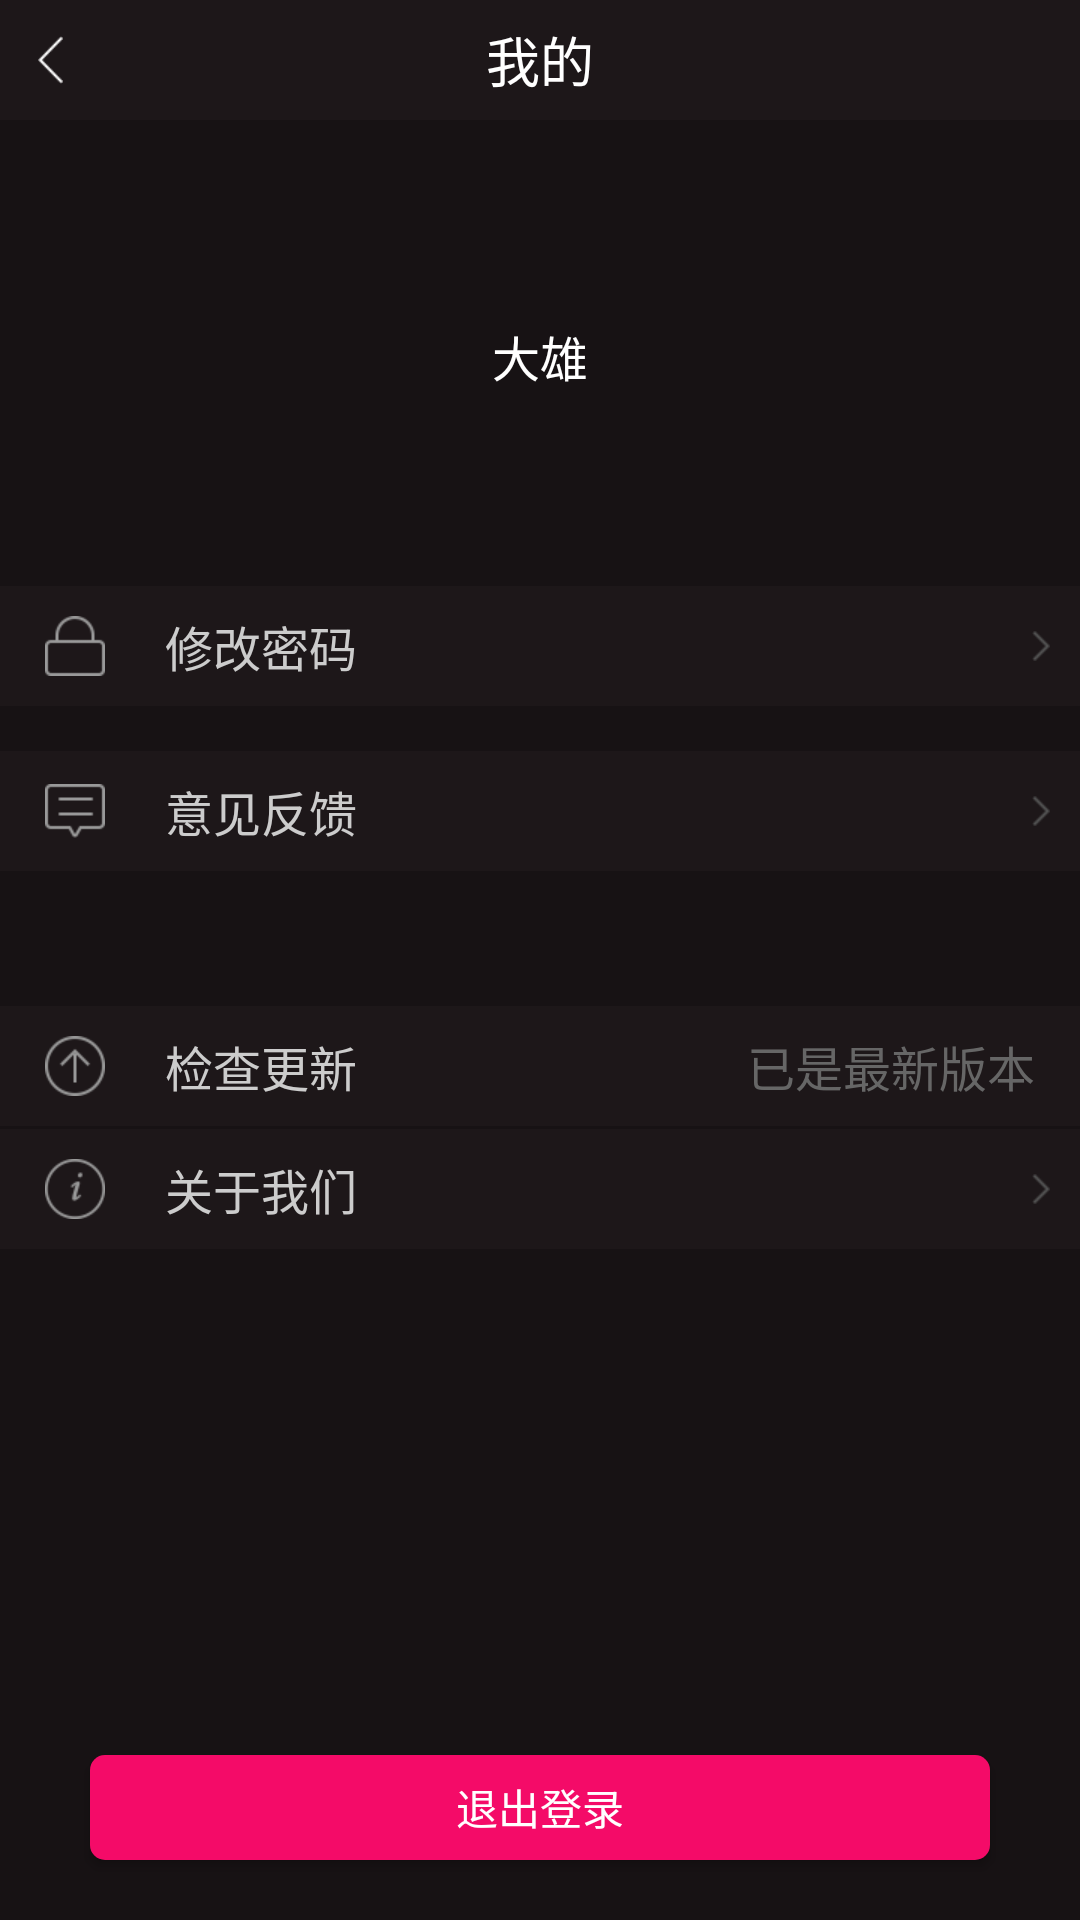

Icon bounding boxes for this 1080px x 1920px phone screenshot, format region(x1, y1, x2, y2):
aboutme: region(45, 1159, 105, 1219)
back: region(38, 37, 63, 83)
update: region(45, 1036, 105, 1096)
